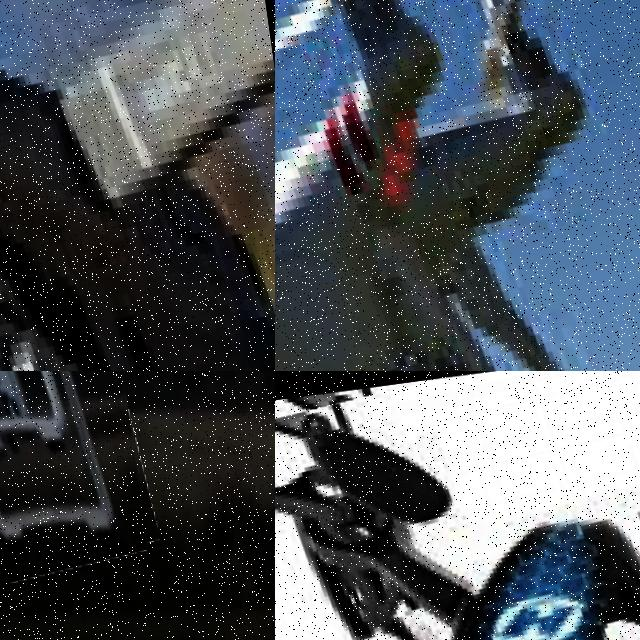drone: (275, 0, 640, 371), (0, 0, 275, 371), (275, 371, 640, 640), (0, 371, 150, 609)
